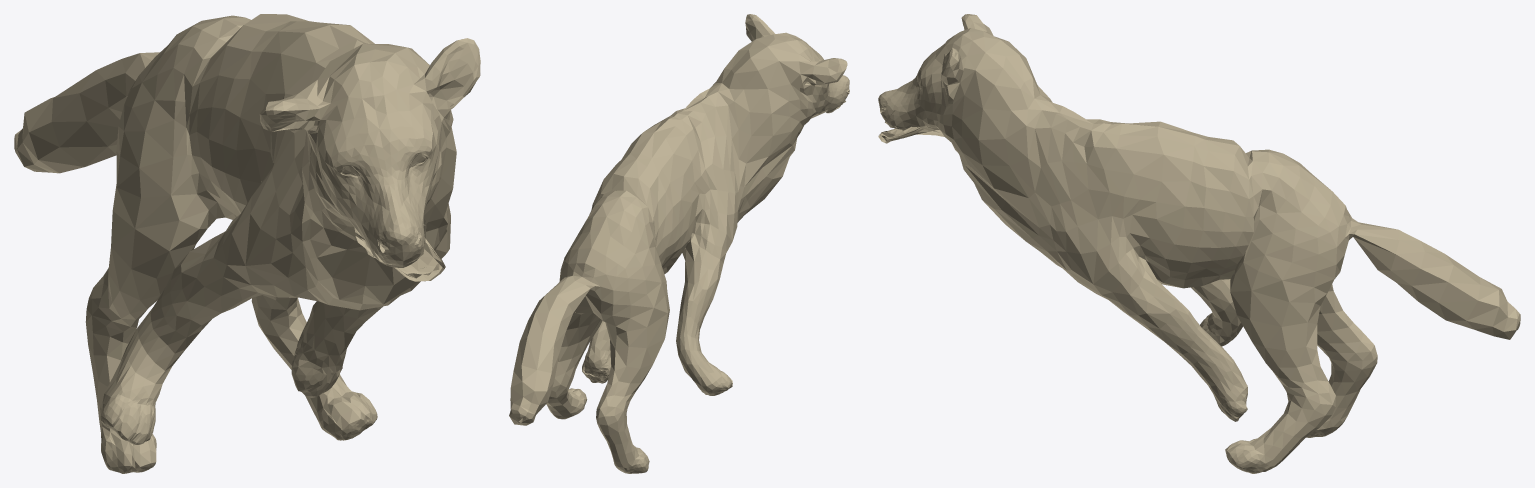
The picture shows the model from 3 angles, left to right: view 1: azimuth 30°, elevation 25°; view 2: azimuth 150°, elevation 25°; view 3: azimuth 270°, elevation 25°; orthographic projection. The views are drawn at different scales.
Parts seen in each view (by area): view 1: world; view 2: world; view 3: world.
Part boxes in pixels (x1=…): world: x1=14, y1=14, x2=480, y2=473; world: x1=509, y1=14, x2=849, y2=473; world: x1=878, y1=14, x2=1520, y2=473.
Size of the model in its own units: 0.4613 by 0.853 by 1.23.
